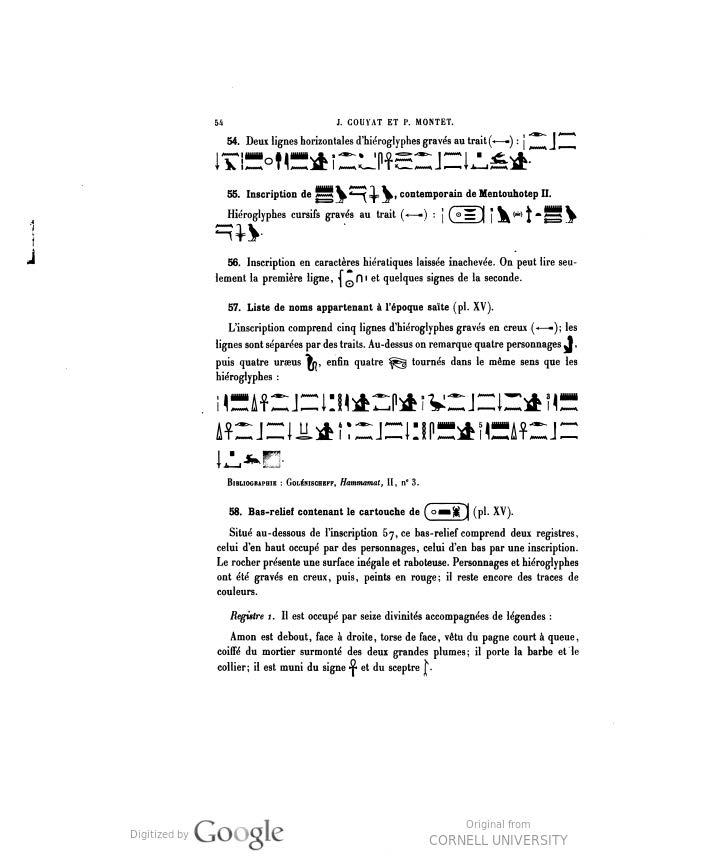circle: (424, 494, 479, 531), (447, 201, 489, 237)
